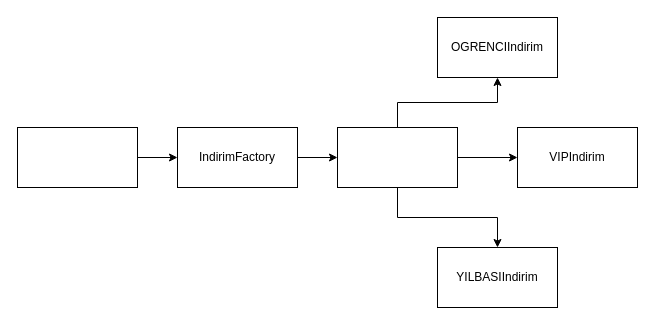
The diagram is 655 pixels wide and 325 high, and some of its shapes have lost their labels. The shapes that lost their labels are listed below. From the top down, each one's centre as x and y in pixels, then its label:
the point at 77,157: Sepet
the point at 397,157: Indirim
